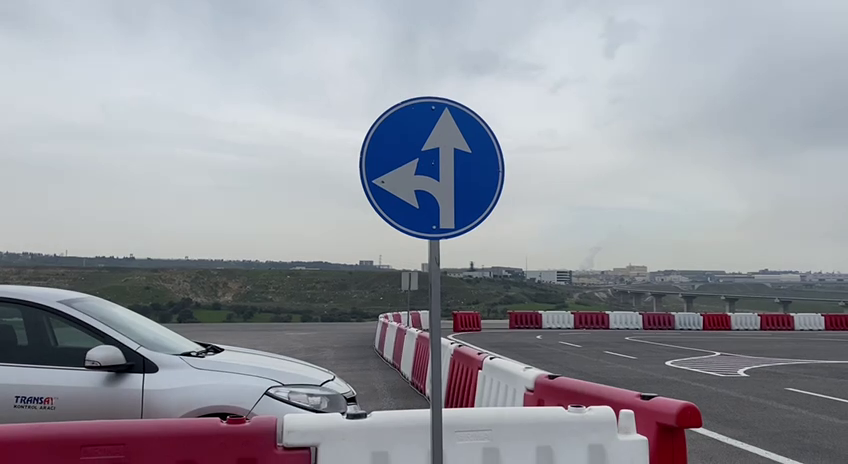forwardAndLeft: (355, 90, 512, 244)
